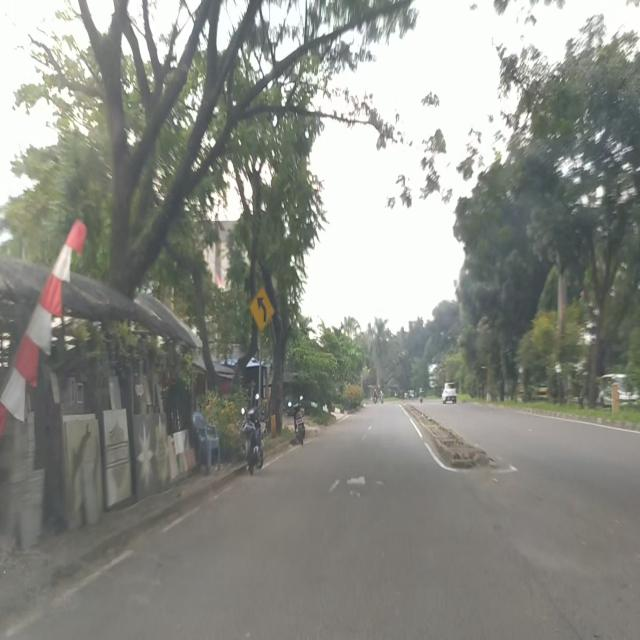Sewer Cover: (462, 480, 588, 632)
